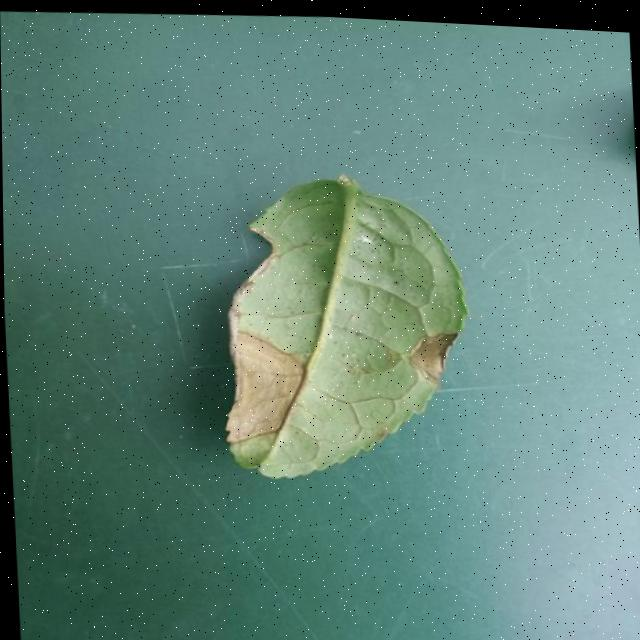Tea cloud leaf blight: (219, 322, 310, 438)
